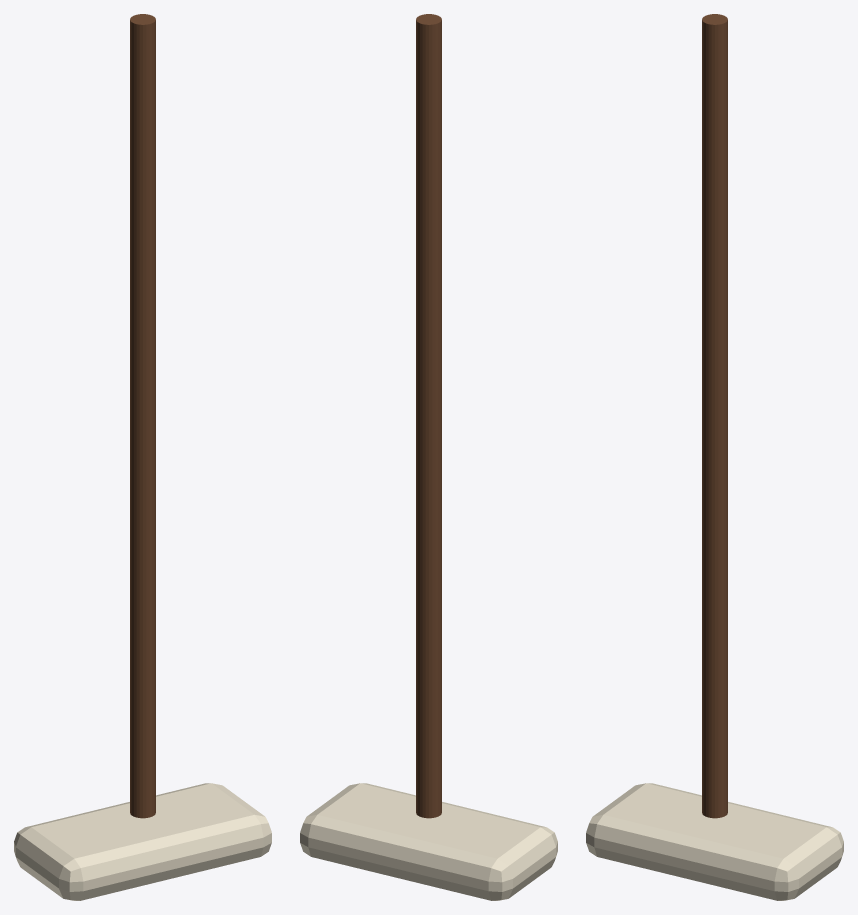
Rendered from mop.glb.
3 renders of one model, left to right at view 1: azimuth 30°, elevation 25°; view 2: azimuth 150°, elevation 25°; view 3: azimuth 330°, elevation 25°, orthographic.
Parts seen in each view (by area): view 1: mop; view 2: mop; view 3: mop.
Part boxes in pixels (left/top/right/bottom): mop: left=14, top=14, right=271, bottom=900; mop: left=300, top=14, right=557, bottom=900; mop: left=586, top=14, right=843, bottom=900.
Bounding box in the file's own units: 0.34 × 1.3 × 0.17.
